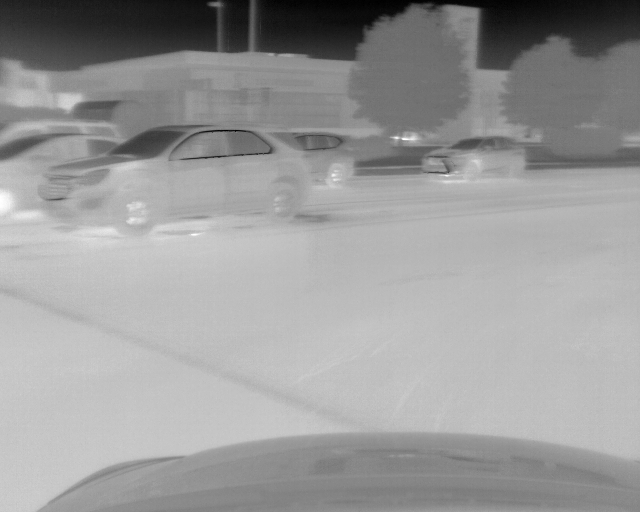car: (38, 123, 309, 234), (1, 140, 117, 215), (420, 136, 524, 180), (305, 130, 358, 186), (5, 117, 119, 137)
